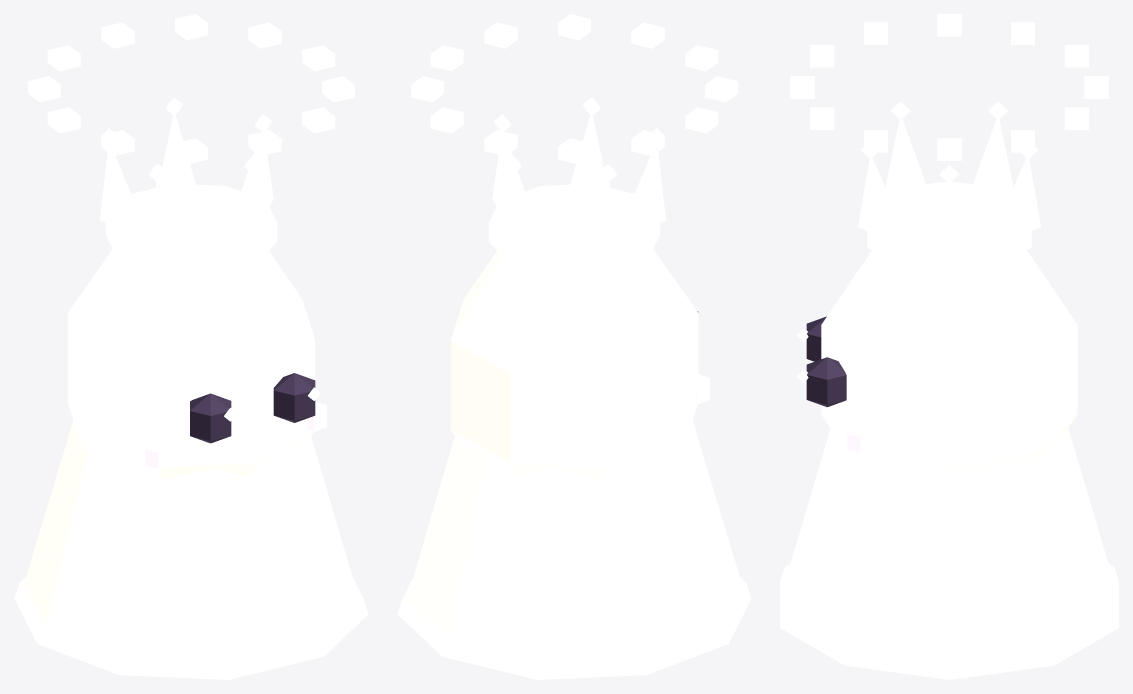
Rendered from spirit_luna.glb.
3 views of the same model, side by side, from view 1: azimuth 30°, elevation 25°; view 2: azimuth 150°, elevation 25°; view 3: azimuth 270°, elevation 25° (orthographic).
Visible parts, largest first — view 1: body, bob, spin, eyes; view 2: body, bob, spin; view 3: body, bob, spin, eyes.
Boxes of the visible parts, x1,y1,x2,y2 form: body: [14, 249, 368, 679]; bob: [100, 97, 277, 273]; spin: [28, 14, 354, 164]; eyes: [190, 373, 320, 443]; body: [397, 249, 751, 679]; bob: [488, 97, 665, 273]; spin: [411, 14, 737, 164]; body: [780, 251, 1118, 679]; bob: [858, 101, 1040, 272]; spin: [790, 14, 1108, 160]; eyes: [797, 316, 846, 407].
Bounding box in the file's own units: 2.06 × 3.34 × 1.96.
